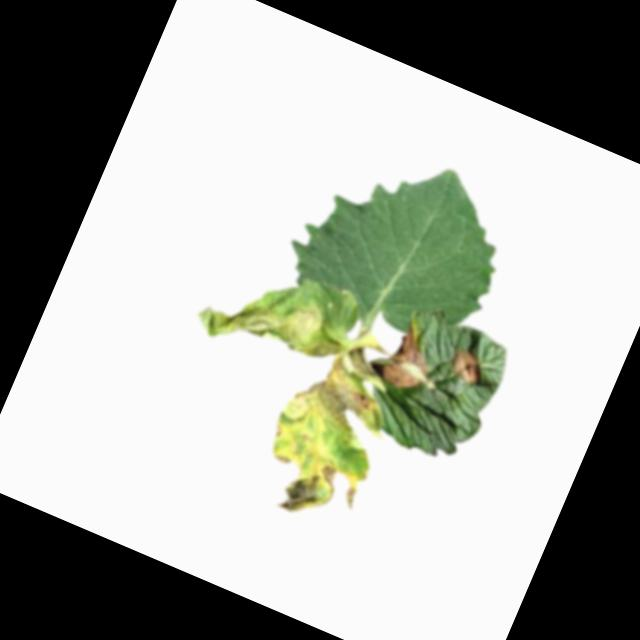Late_blight: (190, 247, 362, 387), (246, 415, 354, 526), (287, 345, 396, 444), (361, 311, 447, 399), (335, 462, 374, 513), (448, 348, 489, 389)
healthy: (274, 121, 527, 360)
